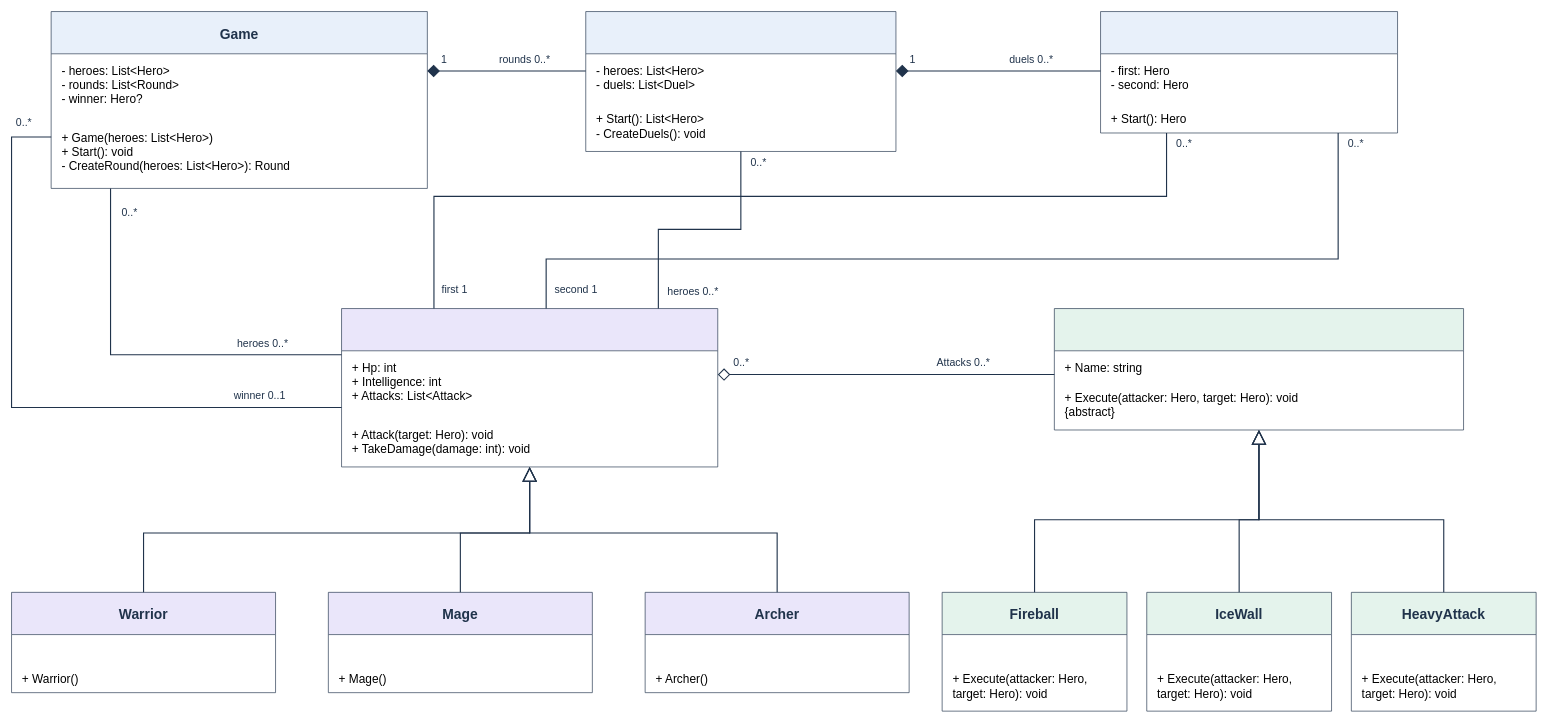
The diagram is 1548 pixels wide and 725 high, and some of its shapes have lost their labels. The box of each missing label's shape, as (x1, y1, x2, y2) in pixels:
Duel: (1100, 11, 1398, 133)
Round: (585, 11, 896, 151)
«abstract» Attack: (1054, 308, 1464, 430)
«abstract» Hero: (341, 308, 718, 467)
